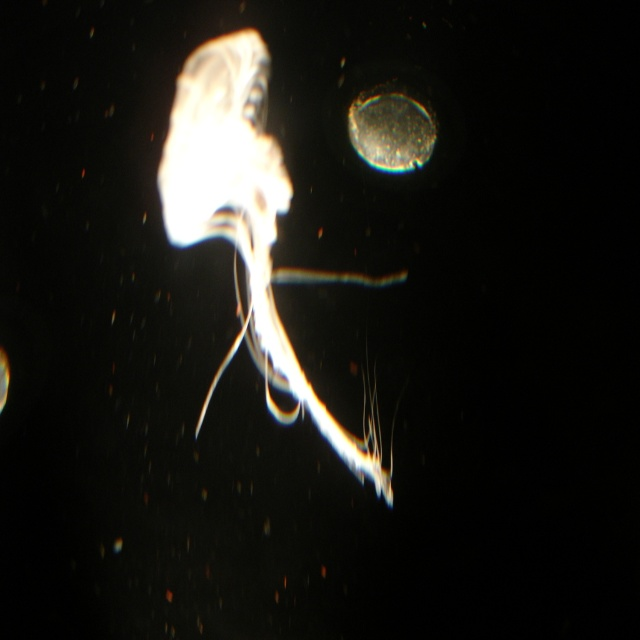Jellyfish: (167, 124, 423, 518)
